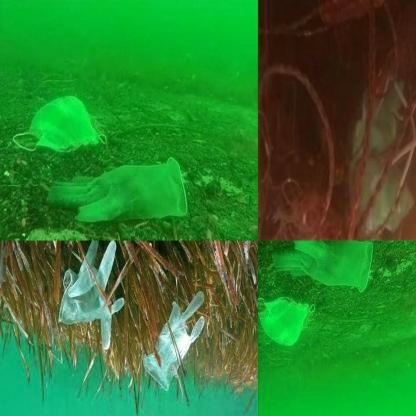Mask: (324, 51, 416, 240), (10, 93, 108, 155), (258, 296, 317, 347)
glove: (44, 158, 188, 225), (54, 240, 127, 351), (138, 289, 210, 394), (271, 240, 378, 294)
